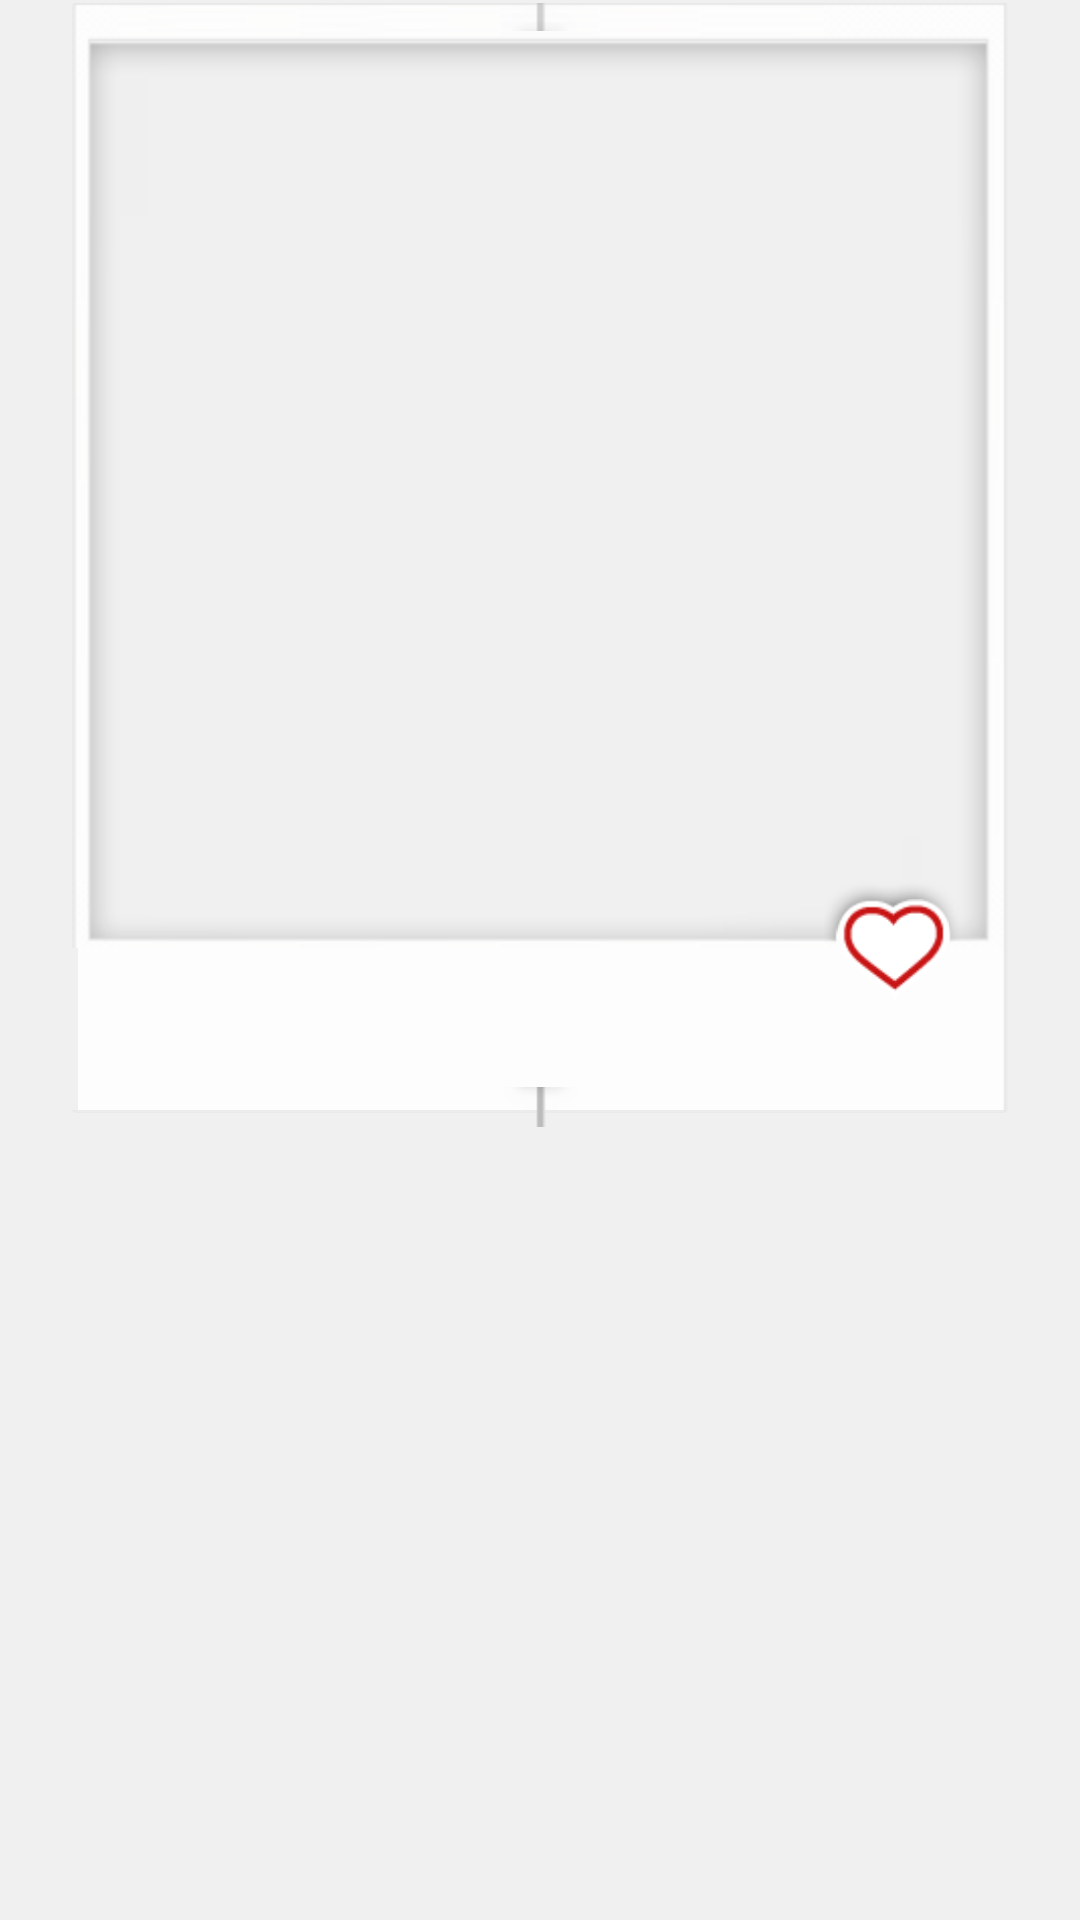

Where to tap for icons on this 1080w x 1920h app screen, as (x=x, y=y):
likes: (x=893, y=948)
rope bottom: (x=541, y=1107)
